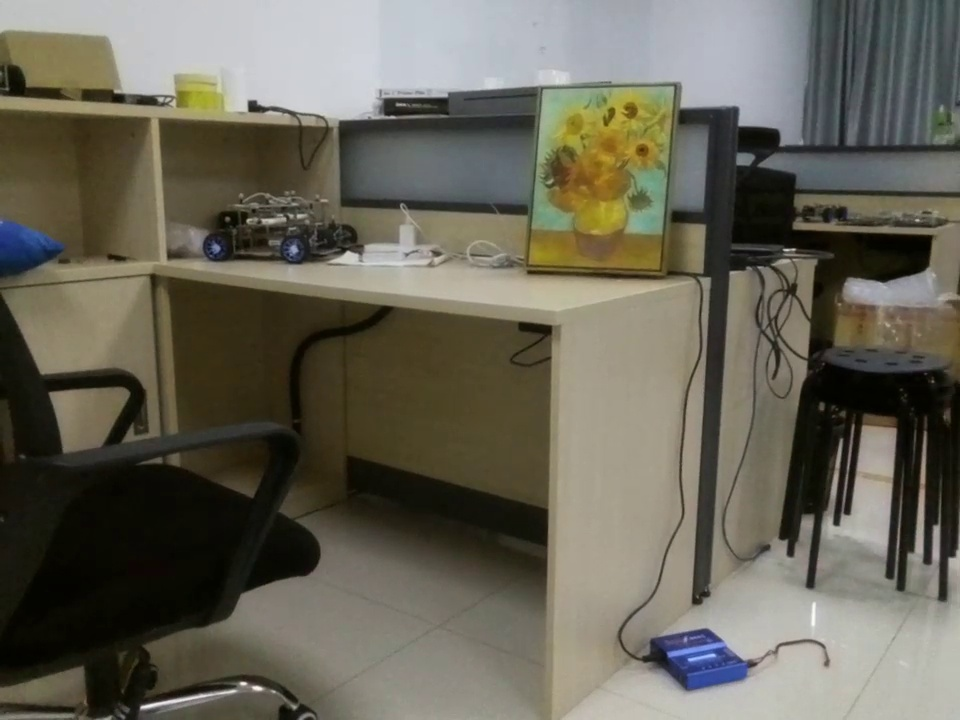painting: (526, 80, 685, 278)
